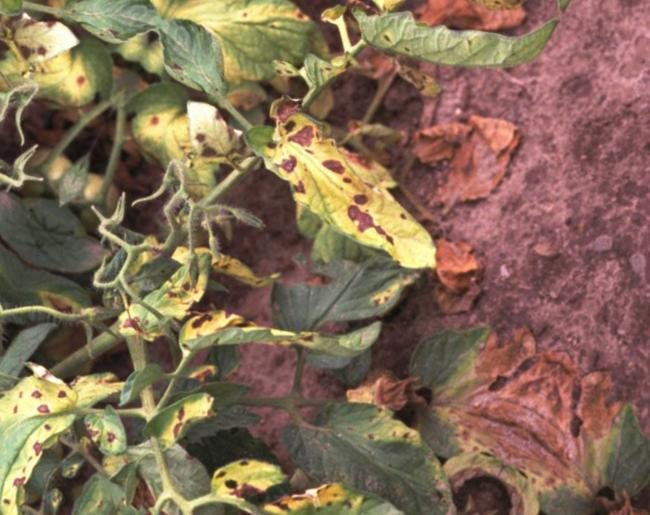Tomato Early blight leaf: (228, 77, 475, 278), (0, 311, 123, 483), (202, 415, 412, 515), (390, 0, 546, 56), (200, 512, 409, 515)
